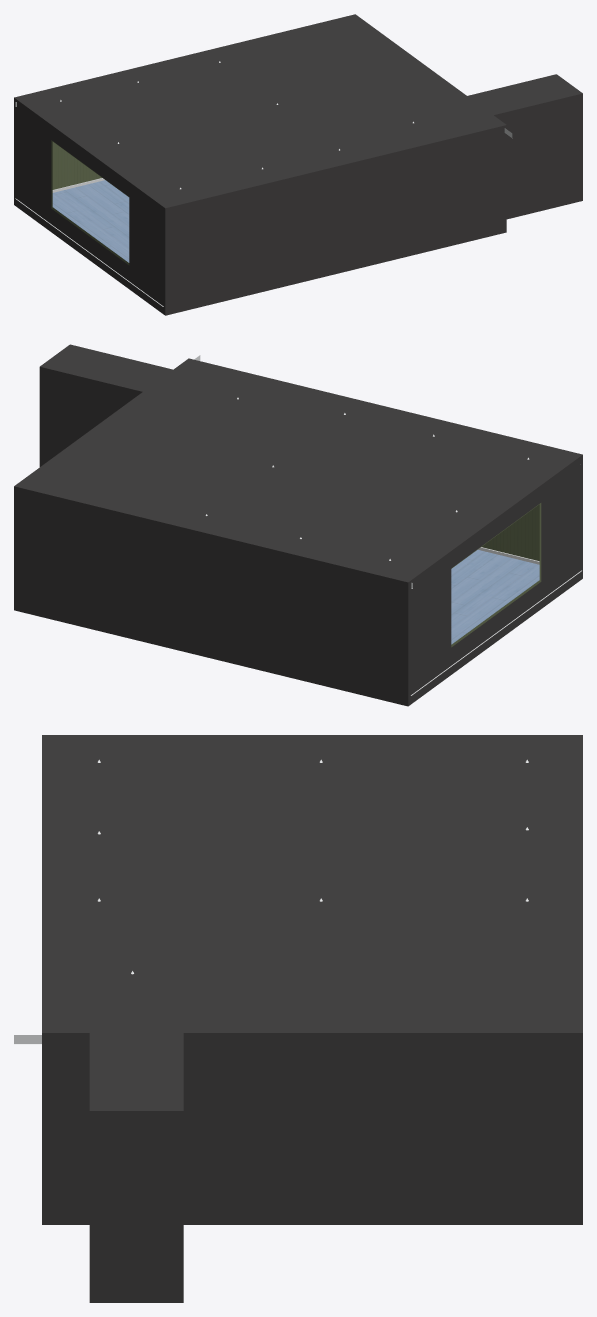
Rendered from M_bedroom01.FBX.
3 views of the same model, one above another, from view 1: azimuth 30°, elevation 25°; view 2: azimuth 150°, elevation 25°; view 3: azimuth 270°, elevation 25° (orthographic). The views are drawn at different scales.
Visible parts, largest first — view 1: M_Bframework01, M_bedroomfloor01, M_bedroomwall01, M_bedroom01; view 2: M_Bframework01, M_bedroomfloor01, M_bedroomwall01, M_bedroom01; view 3: M_Bframework01.
Boxes of the visible parts, x1=… form: M_Bframework01: x1=14, y1=14, x2=582, y2=315; M_bedroomfloor01: x1=52, y1=180, x2=129, y2=262; M_bedroomwall01: x1=51, y1=140, x2=129, y2=265; M_bedroom01: x1=15, y1=102, x2=512, y2=306; M_Bframework01: x1=14, y1=344, x2=582, y2=706; M_bedroomfloor01: x1=451, y1=549, x2=539, y2=644; M_bedroomwall01: x1=451, y1=503, x2=541, y2=647; M_bedroom01: x1=194, y1=355, x2=581, y2=695; M_Bframework01: x1=42, y1=735, x2=582, y2=1302.
Size of the model in its own units: 18.17 by 4.38 by 11.59.
